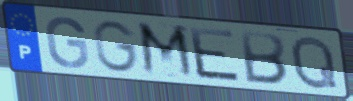B: (239, 29, 289, 87)
E: (186, 25, 244, 85)
G: (91, 19, 141, 74), (43, 15, 91, 70)
M: (135, 20, 198, 82)
Q: (289, 34, 340, 92)
